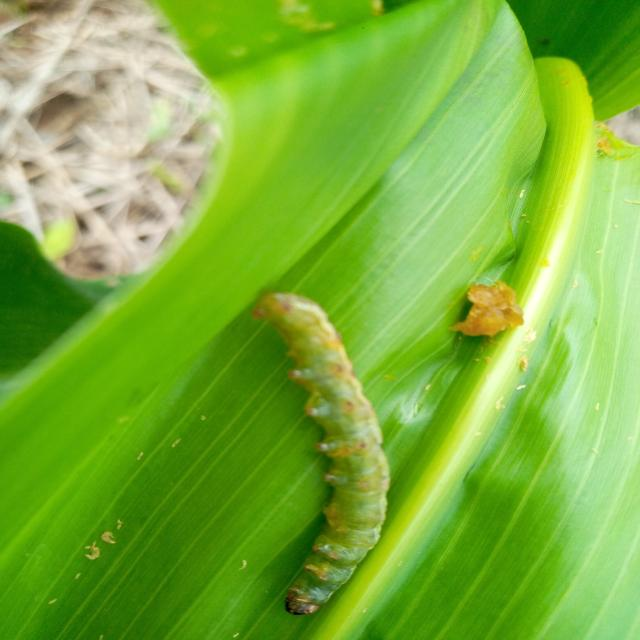yellow-stem-borer-larva: (236, 252, 398, 627)
